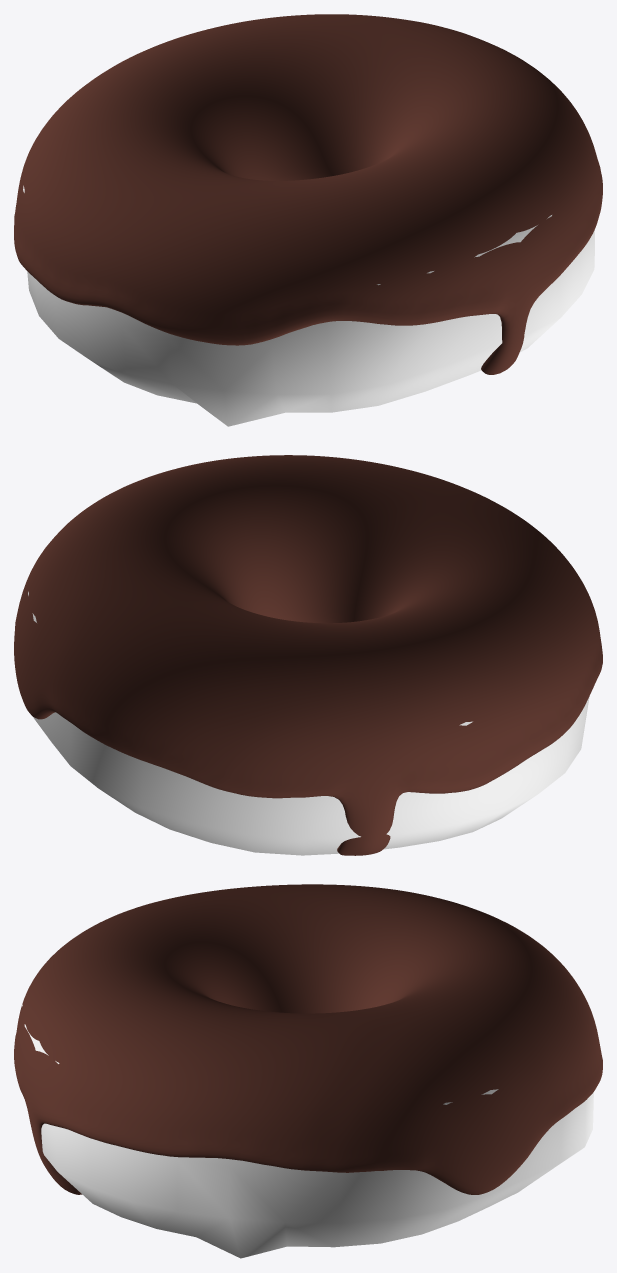
The model's file is donut.glb.
3 views of the same model, one above another, from view 1: azimuth 30°, elevation 25°; view 2: azimuth 150°, elevation 25°; view 3: azimuth 270°, elevation 25° (orthographic).
Visible parts, largest first — view 1: Icing.004, Donuts.004; view 2: Icing.004, Donuts.004; view 3: Icing.004, Donuts.004.
Part boxes in pixels (box(x1,y1,x2,y2)): Icing.004: box(14, 14, 602, 374); Donuts.004: box(23, 185, 594, 426); Icing.004: box(14, 455, 602, 855); Donuts.004: box(28, 591, 589, 855); Icing.004: box(14, 884, 602, 1194); Donuts.004: box(22, 1004, 593, 1258).
Size of the model in its own units: 0.1768 by 0.078 by 0.1763.
